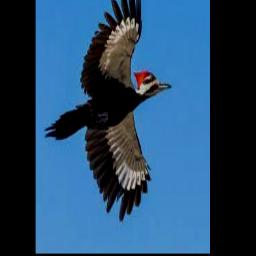Woodpecker: (44, 0, 172, 222)
